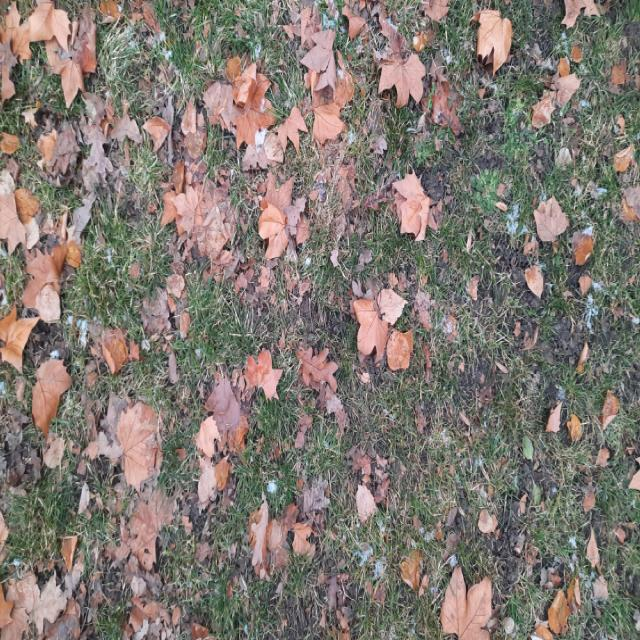grass: (0, 0, 639, 638)
